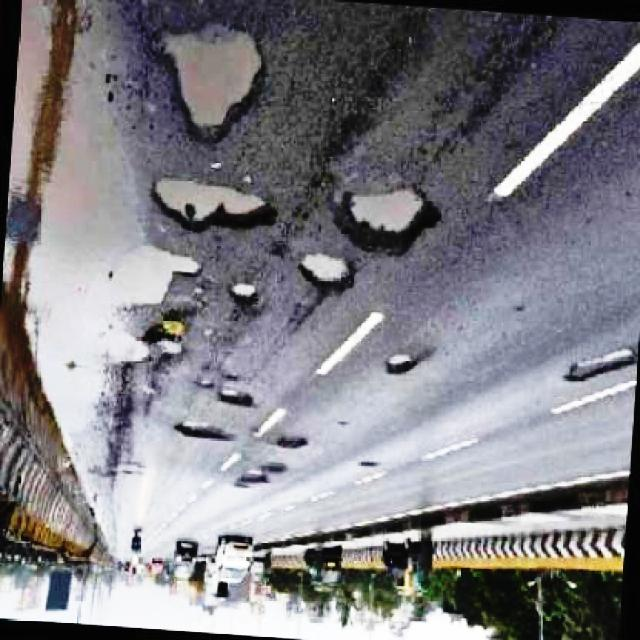pothole: (151, 15, 269, 150), (148, 165, 280, 237), (339, 182, 446, 258), (100, 237, 198, 311), (100, 322, 186, 369), (560, 342, 638, 389), (198, 360, 260, 412), (300, 246, 360, 294), (172, 412, 235, 445), (232, 462, 290, 492), (234, 277, 269, 315), (384, 349, 416, 374), (276, 434, 310, 454)
